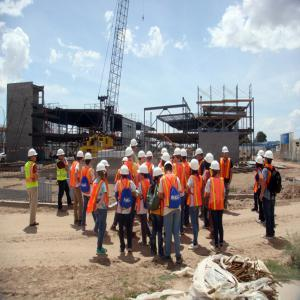white: (28, 149, 38, 164), (153, 167, 163, 182), (140, 165, 150, 179), (191, 160, 200, 175), (97, 164, 106, 178), (212, 162, 221, 176), (164, 162, 174, 174), (121, 166, 130, 179), (205, 154, 214, 167), (265, 152, 274, 165), (162, 154, 171, 166), (58, 149, 66, 162), (77, 151, 85, 164), (102, 161, 110, 174), (131, 139, 139, 152), (126, 149, 135, 160), (181, 149, 188, 163), (85, 153, 93, 165), (139, 152, 147, 164), (175, 149, 182, 162), (196, 149, 204, 160), (222, 147, 230, 158), (257, 157, 264, 168), (147, 152, 154, 162), (123, 158, 130, 166)
